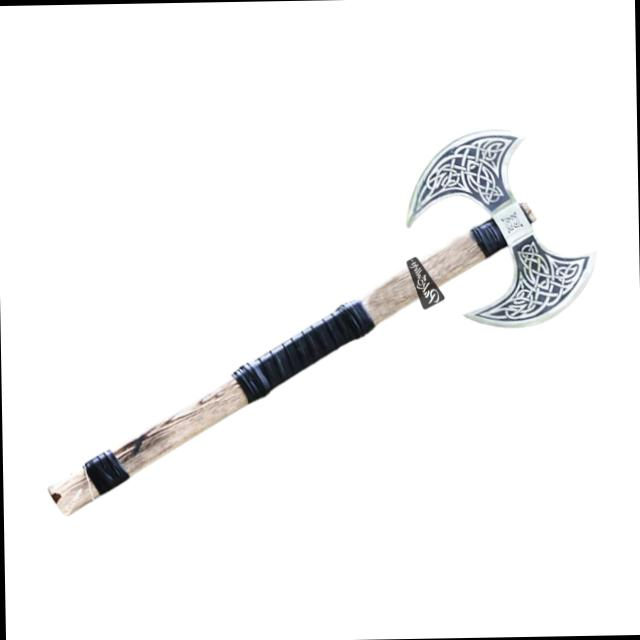Gun: (23, 107, 612, 557)
